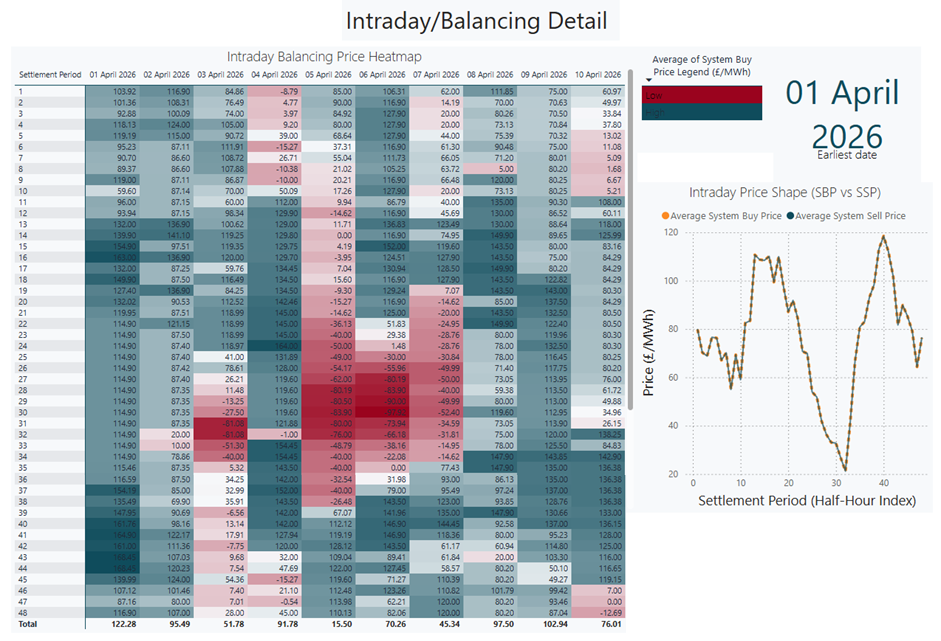

The page's visual inventory and layout, read from the dashboard file:
{"tool":"powerbi","page":{"name":"Intraday/Balancing Detail","canvas":[1280,720],"ordinal":1},"visuals":[{"type":"pivotTable","title":"Intraday Balancing Price Heatmap","fields":{"Values":["Avg(fact_power_market.sbp_gbp_mwh)"],"Rows":["fact_power_market.settlement_period"],"Columns":["fact_power_market.date"]},"box":[16,64,848,632],"z":1000},{"type":"card","fields":{"Values":["Min(fact_power_market.date)"]},"box":[1048,64,200,184],"z":1000},{"type":"textbox","box":[464,0,376,56],"z":2000},{"type":"lineChart","title":"Intraday Price Shape (SBP vs SSP)","fields":{"Category":["fact_power_market.settlement_period"],"Y":["fact_power_market.Avg SBP","fact_power_market.Avg SSP"]},"box":[864,248,400,448],"z":3001},{"type":"tableEx","fields":{"Values":["IntraPrice Colour Legend.Label"]},"box":[864,64,184,144],"z":4002}]}

Visuals, with their boxes on the page's 1280x720 design canvas (x1, y1, x2, y2). These are canvas units, not pixel positions in the 941x641 screenshot, which may show the page scaled, cropped or inside an application window:
"Intraday Balancing Price Heatmap" pivotTable: [left=16, top=64, right=864, bottom=696]
card - Min(fact_power_market.date): [left=1048, top=64, right=1248, bottom=248]
textbox: [left=464, top=0, right=840, bottom=56]
"Intraday Price Shape (SBP vs SSP)" lineChart: [left=864, top=248, right=1264, bottom=696]
tableEx - IntraPrice Colour Legend.Label: [left=864, top=64, right=1048, bottom=208]
